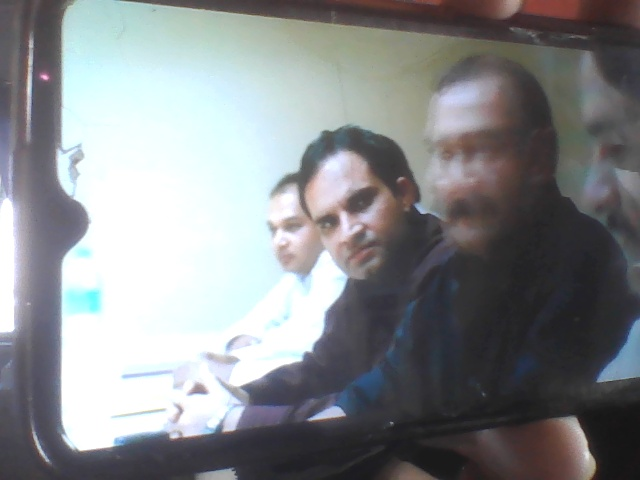fake: (295, 120, 415, 290)
